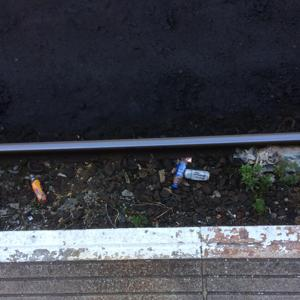metal: (181, 167, 213, 180)
plastic bottle: (27, 170, 52, 211), (174, 158, 185, 189)
